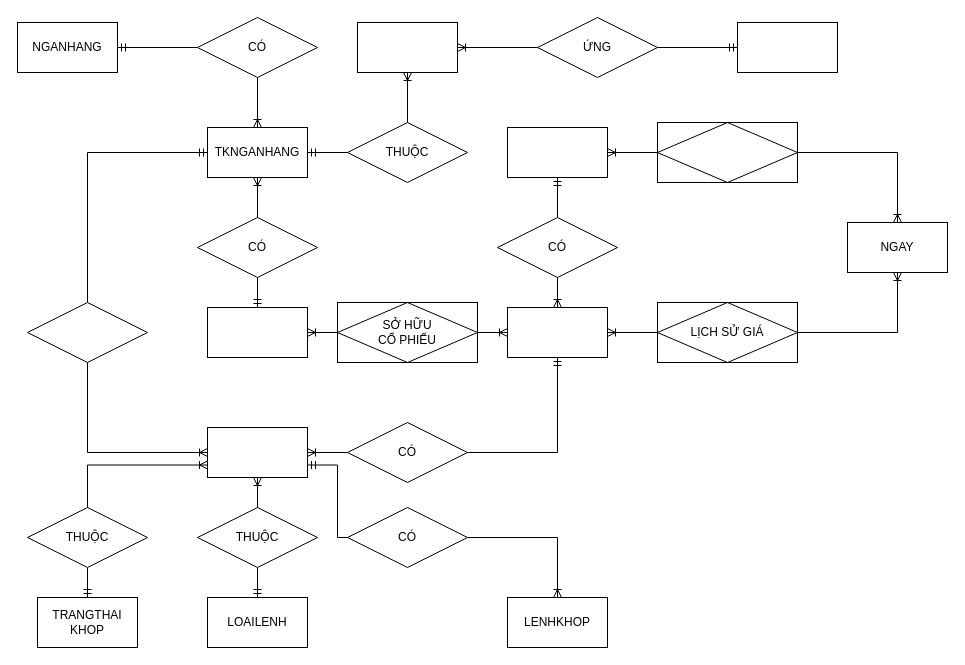
Image size: 965x665. Some labels were removed from this diagram. The shapes that lost their labels are listed below. From the top down, each one's centre as x and y in pixels, then its label:
the point at 407,47: LENHUNG
the point at 787,47: NGAYBAN
the point at 557,152: SANGIAODICH
the point at 727,152: CHITIET QUYDINH
the point at 87,332: ĐẶT LỆNH
the point at 257,332: NHADAUTU
the point at 557,332: COPHIEU
the point at 257,452: LENHDAT
